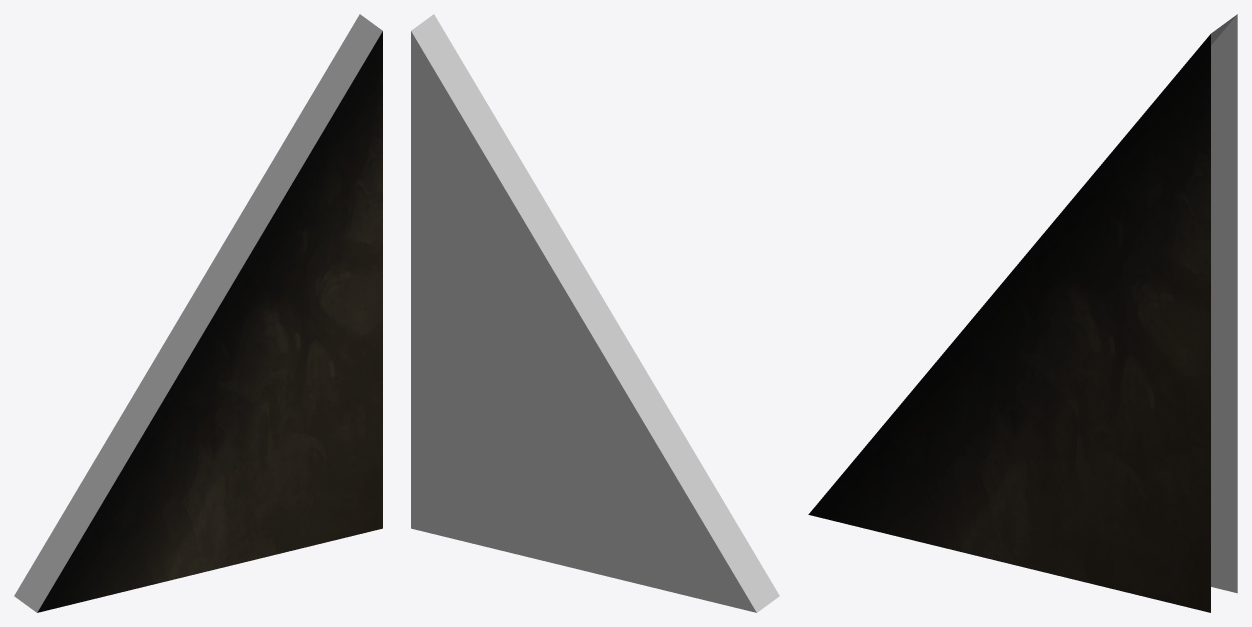
Rendered from fortress_fade_transition_01.fbx.
The picture shows the model from 3 angles, left to right: view 1: azimuth 30°, elevation 25°; view 2: azimuth 150°, elevation 25°; view 3: azimuth 330°, elevation 25°; orthographic projection. The views are drawn at different scales.
Parts seen in each view (by area): view 1: fortress_fade_transition_01-0; view 2: fortress_fade_transition_01-0; view 3: fortress_fade_transition_01-0.
Part boxes in pixels (left/top/right/bottom): fortress_fade_transition_01-0: left=14, top=14, right=382, bottom=612; fortress_fade_transition_01-0: left=411, top=14, right=779, bottom=612; fortress_fade_transition_01-0: left=808, top=14, right=1237, bottom=612.
Size of the model in its own units: 4 by 5.5 by 0.4622.
